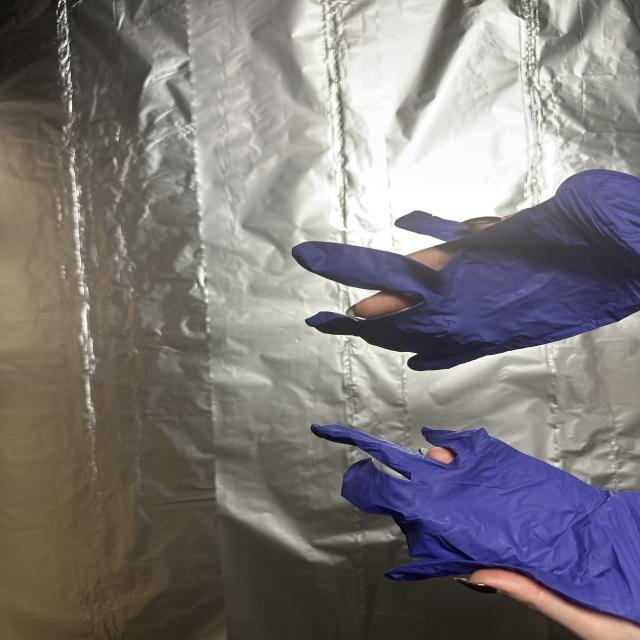glove_not_fitted: (307, 415, 640, 640), (288, 164, 640, 372)
